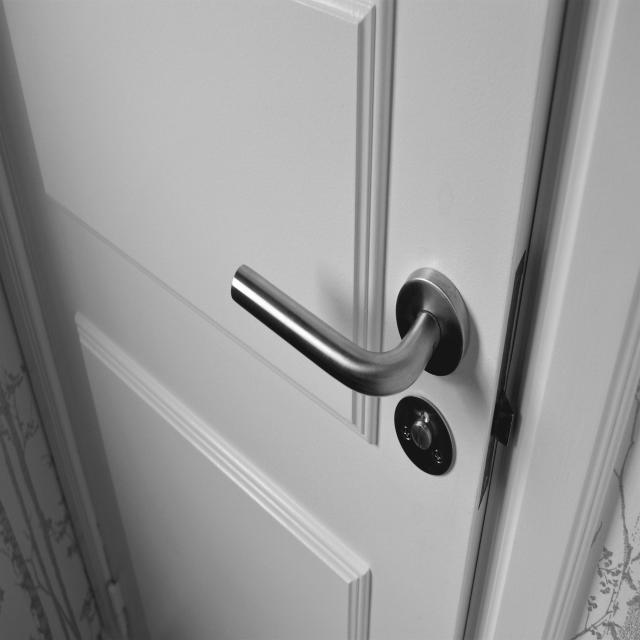door-handle: (231, 265, 469, 397)
